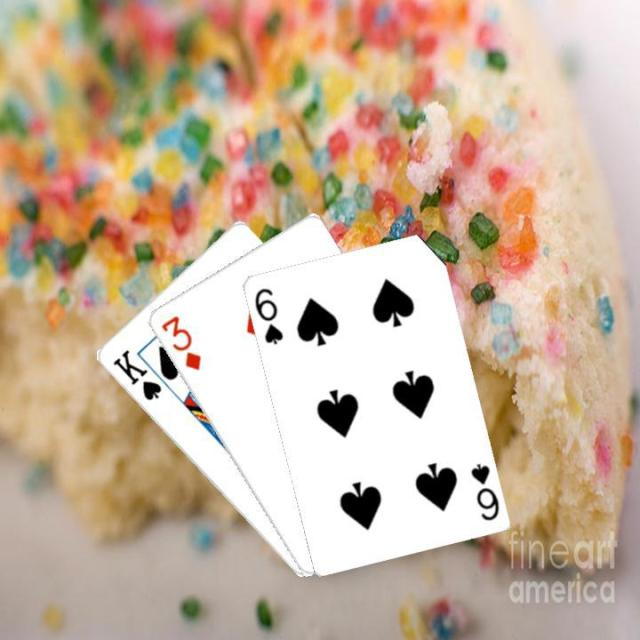3D: (156, 311, 202, 373)
6S: (250, 284, 284, 346), (466, 460, 500, 522)
KS: (108, 346, 164, 402)
